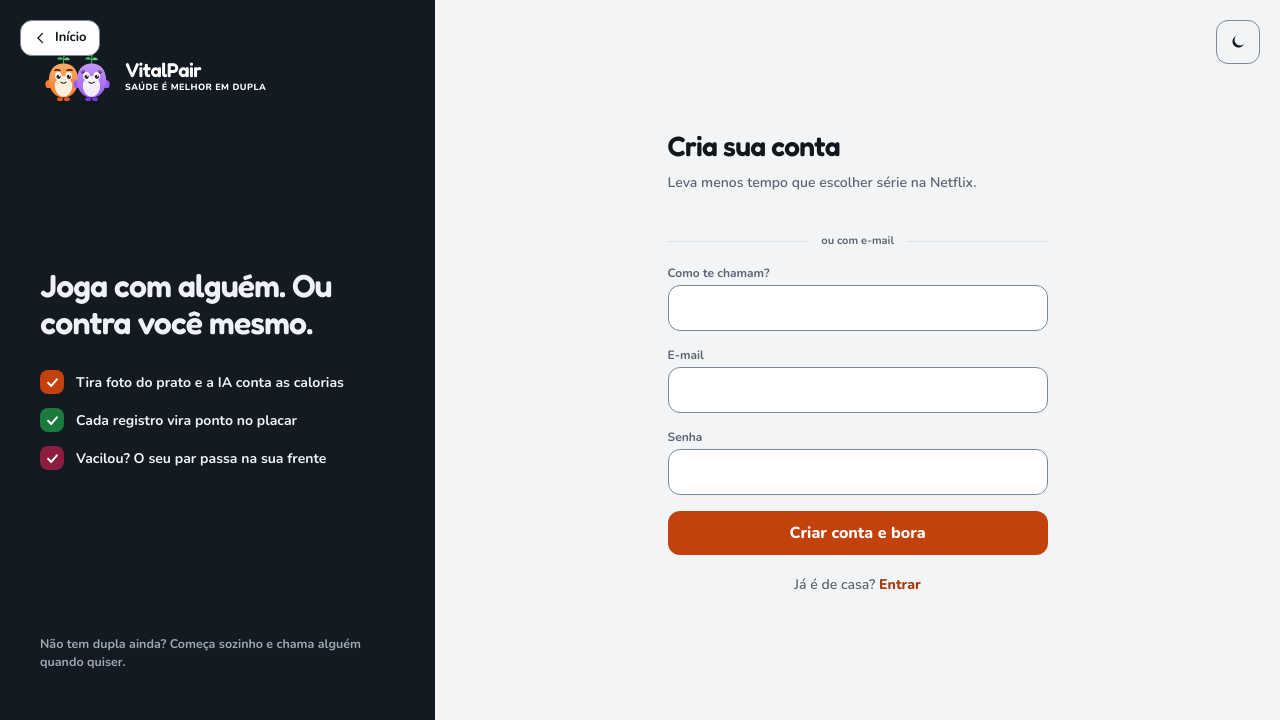
it: RegisterPage › reserves the strongest verdict for a password that earns it
The image size is (1280, 720).
Type "Test@12345!Abc#2026" into the password field labelled "Senha".
click(858, 472); type("Test@12345!Abc#2026")  # box [668,449,1048,495]
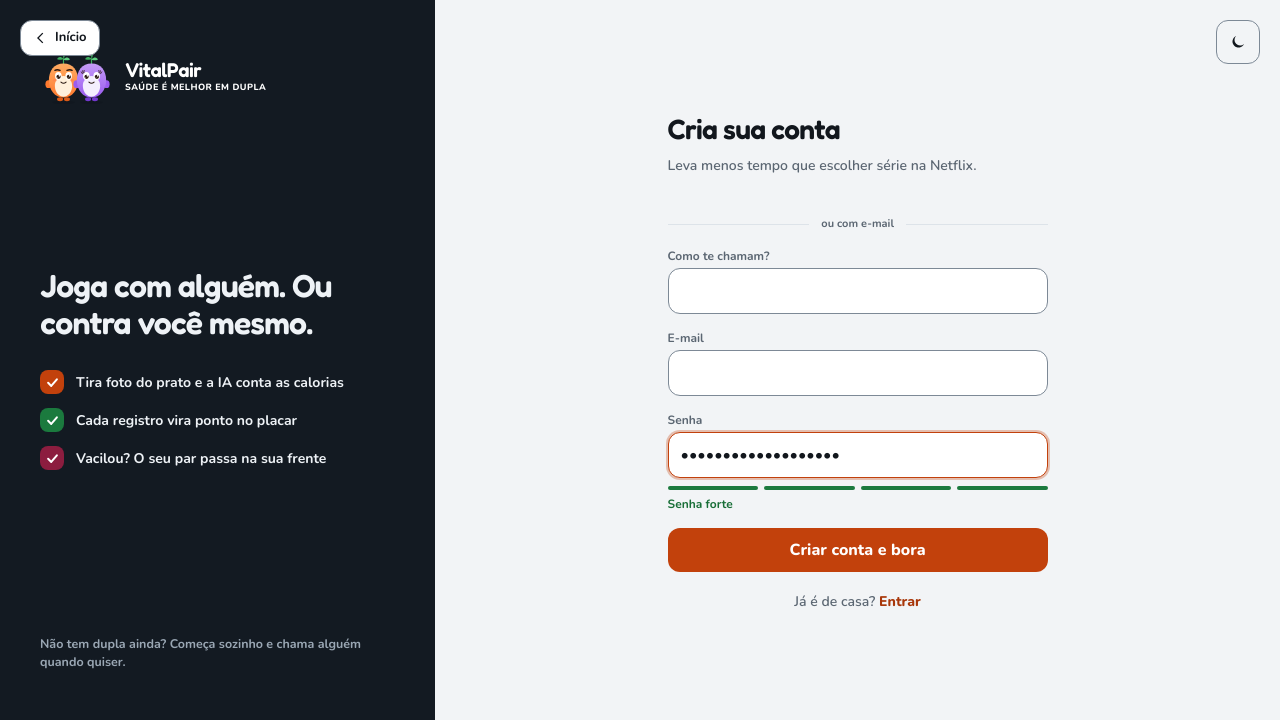
Expected: the text "Senha forte" is shown, [668,496,733,512]
